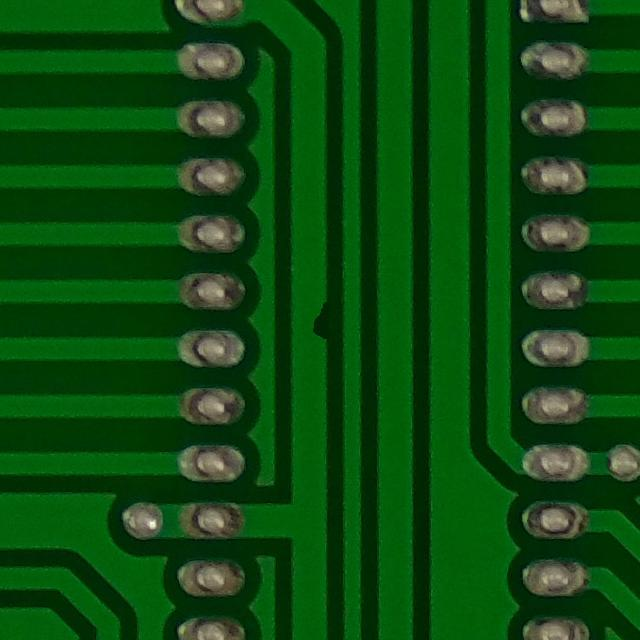mouse_bite: (298, 284, 342, 357)
